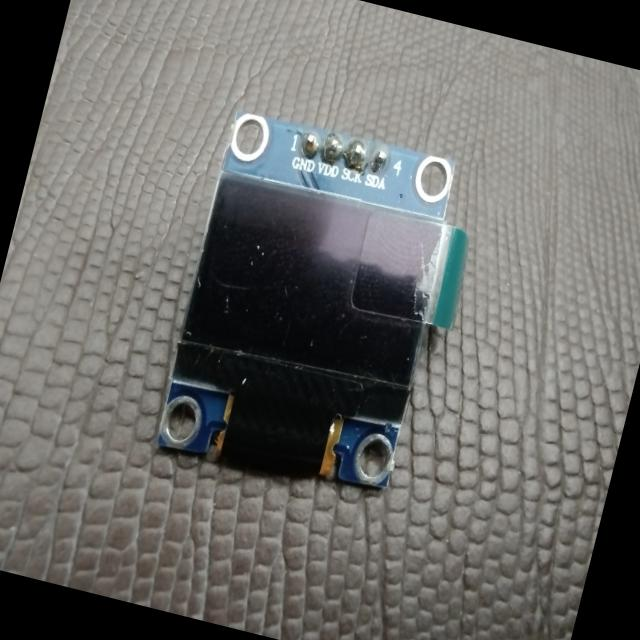oled: (147, 96, 494, 508)
